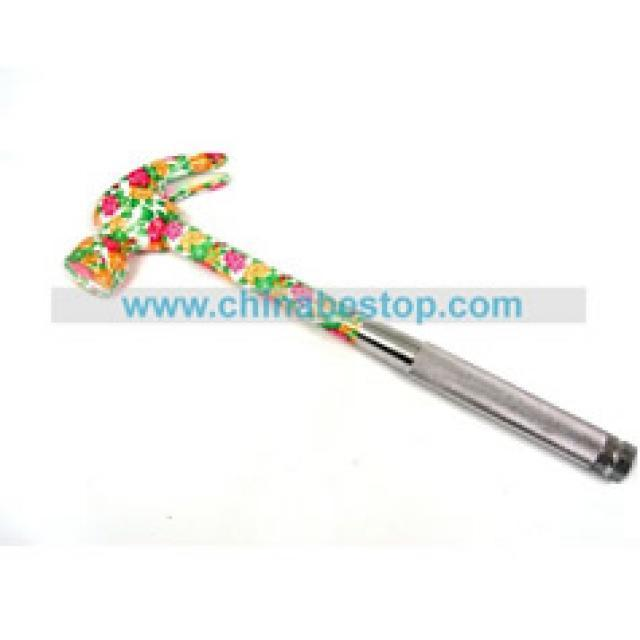hammer: (55, 135, 635, 487)
